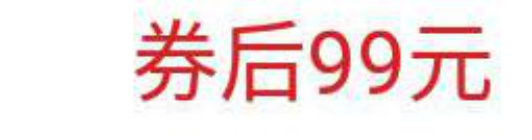TextView: (1, 1, 531, 139)
